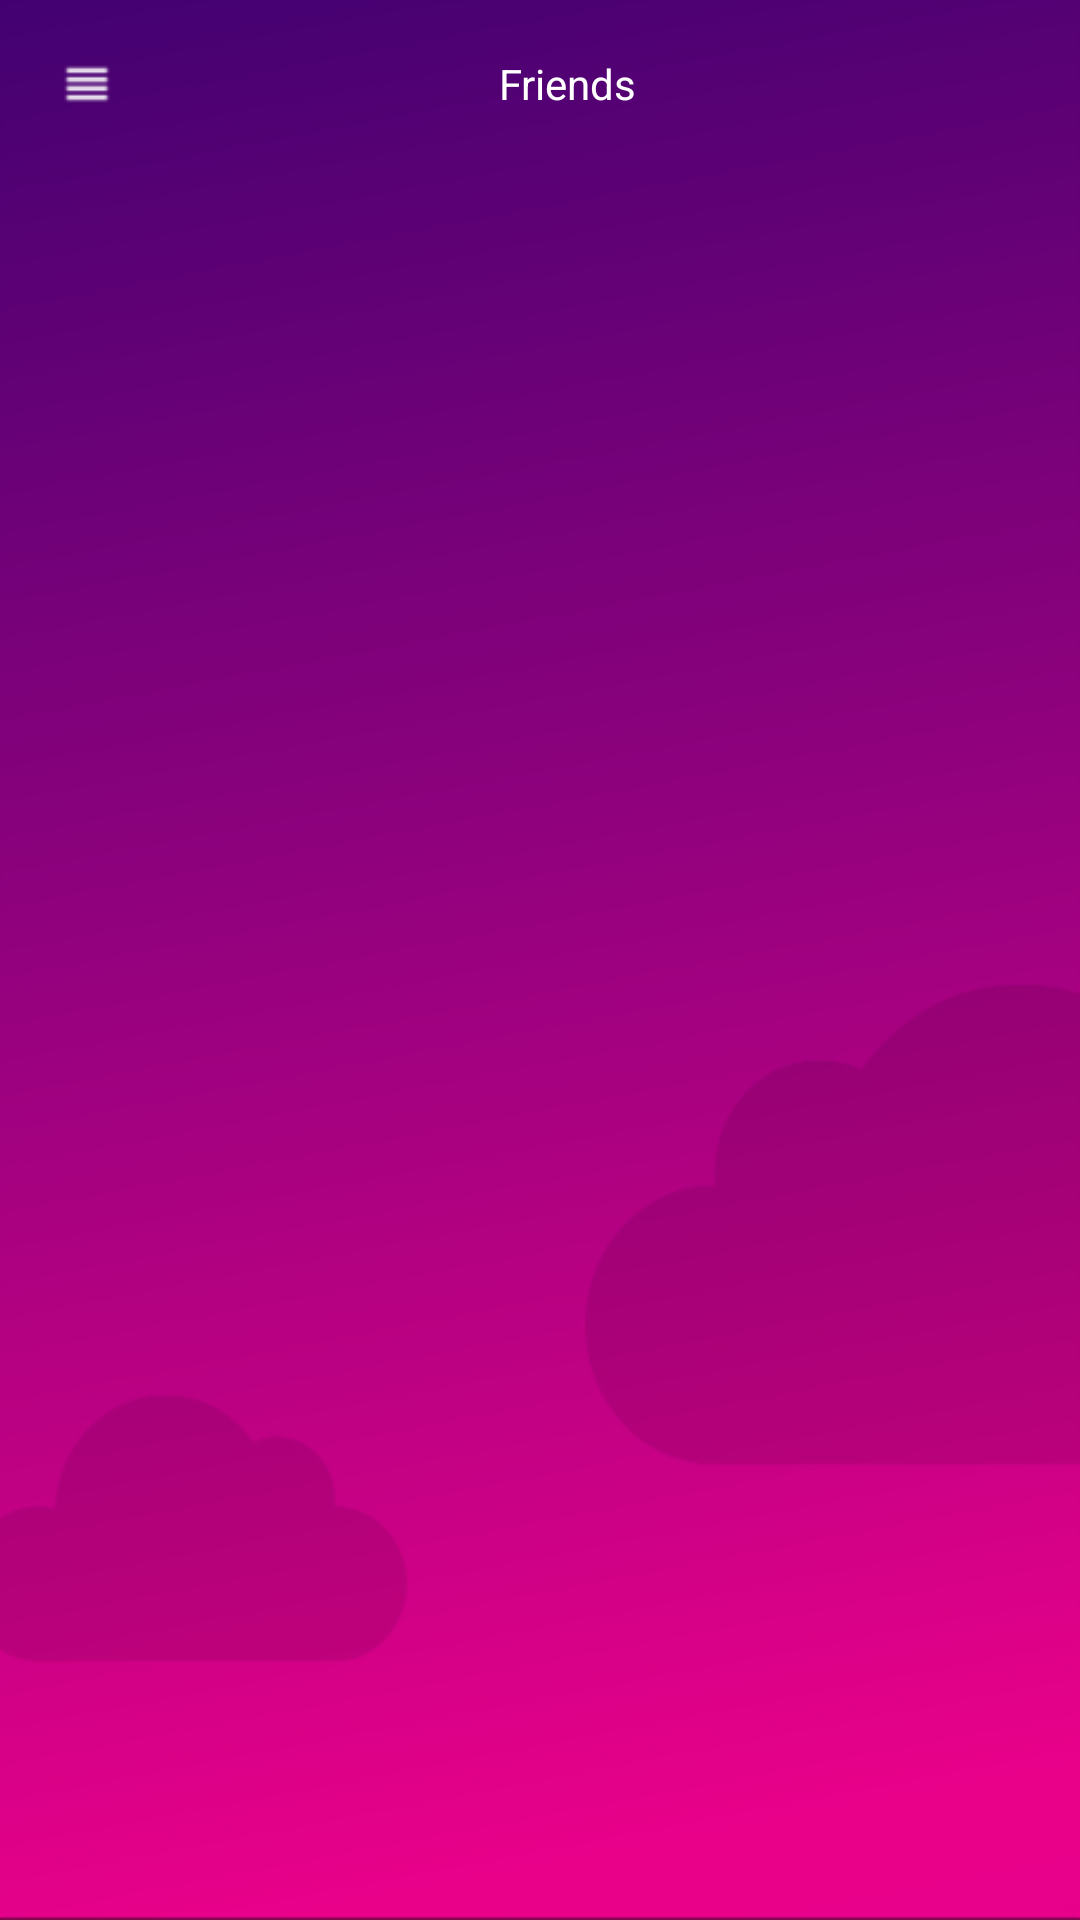

Point at icon controls on the screen. Image size 1080x1920, points as point (x, y).
reorder: point (87, 84)
